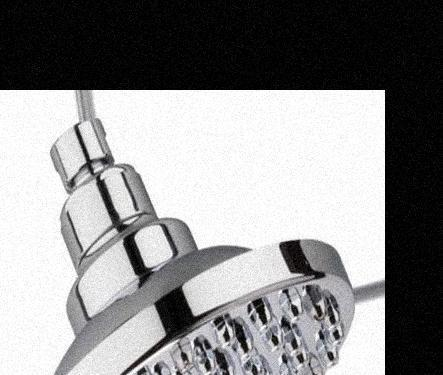Ducha: (0, 92, 384, 375)
